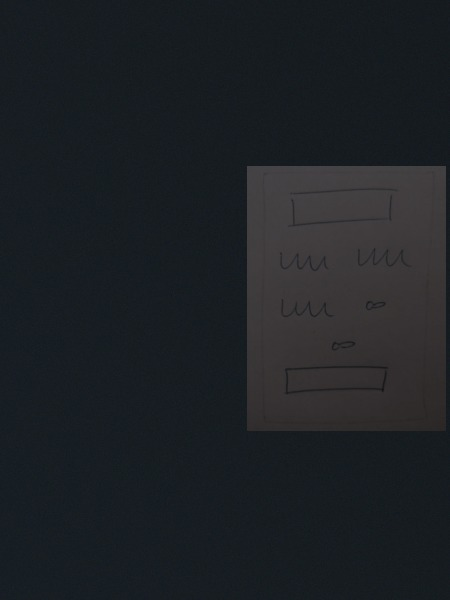switch: (359, 295, 394, 315), (328, 334, 358, 354)
text: (353, 242, 417, 270), (275, 294, 337, 322), (275, 246, 333, 275)
text_input: (281, 184, 403, 231), (281, 363, 393, 397)
